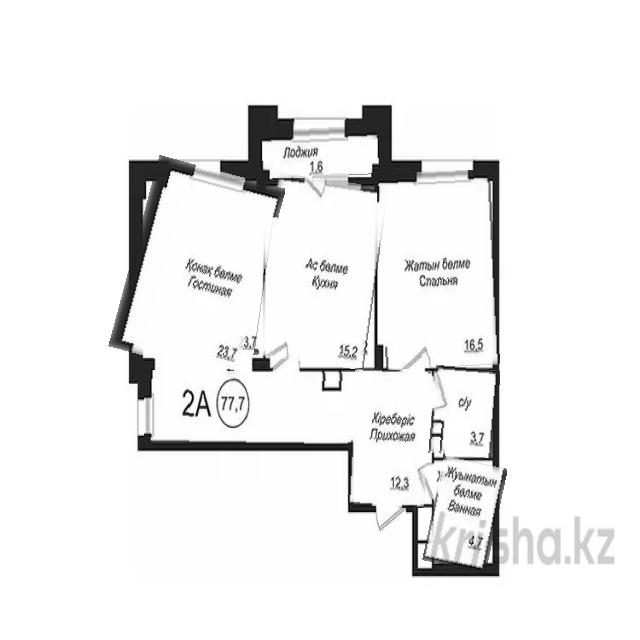balcony: (260, 120, 378, 179)
bathroom: (427, 458, 502, 571), (430, 367, 499, 457)
hallway: (144, 371, 349, 446), (350, 369, 430, 508)
kitchen: (259, 177, 382, 367)
living_room: (119, 162, 274, 374), (378, 171, 498, 369)
